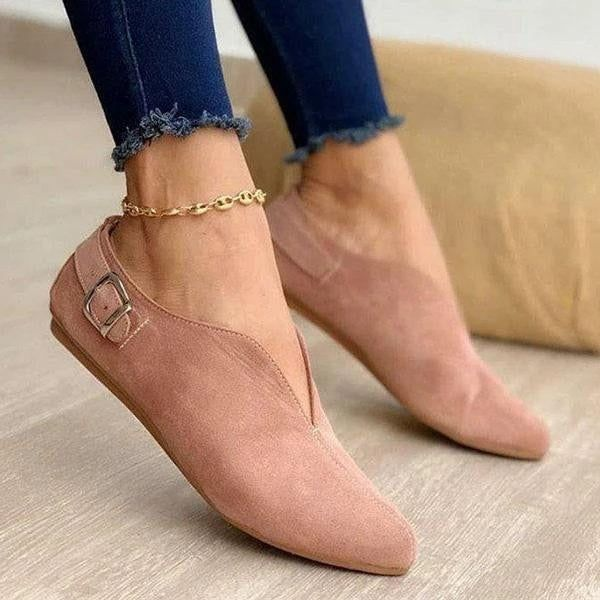gamuza: (49, 218, 416, 576)
